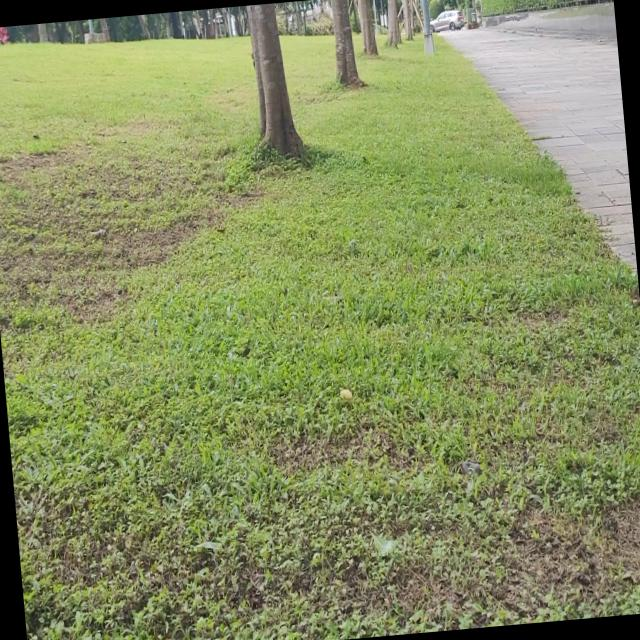cement: (437, 2, 637, 268)
grass: (0, 34, 640, 640)
